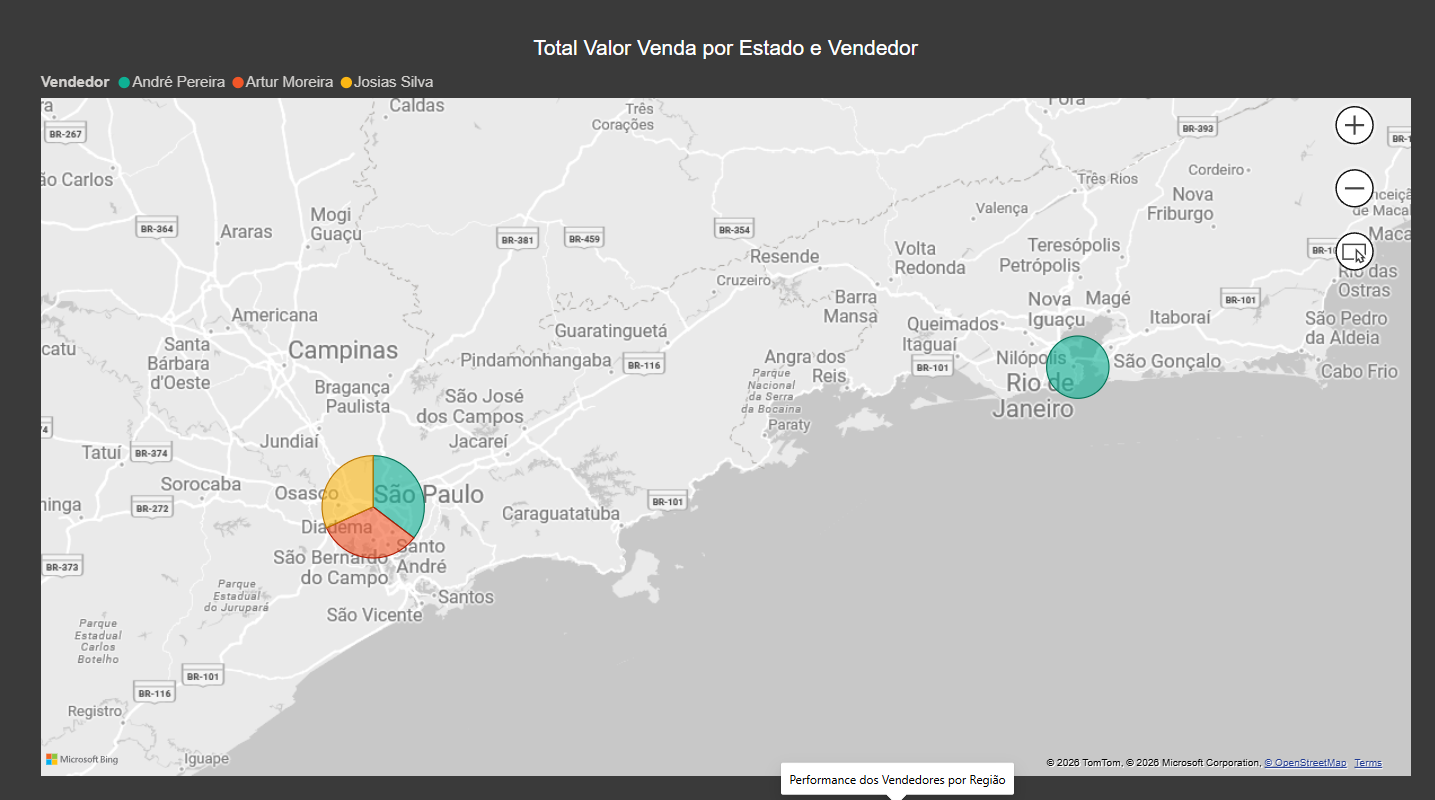

The dashboard page shown, as its layout file describes it:
{"tool":"powerbi","page":{"name":"Performance dos Vendedores por Região","canvas":[1280,720],"ordinal":4},"visuals":[{"type":"map","title":"Total Valor Venda por Estado e Vendedor","fields":{"Category":["Vendas.Estado"],"Series":["Vendas.Vendedor"],"Size":["Sum(Vendas.ValorVenda)"]},"box":[35.5,35.5,1224.5,661.5],"z":0}]}

Visuals, with their boxes in screenshot pixels (x1, y1, x2, y2), scaled from the page's 1280x720 canvas onto the 1435x800 screenshot:
"Total Valor Venda por Estado e Vendedor" map: 40 39 1413 774
